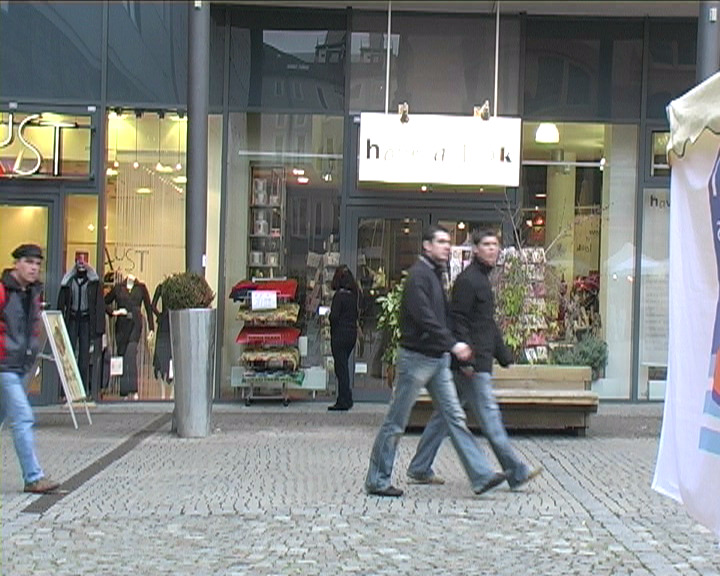deflection: (453, 228, 513, 344)
